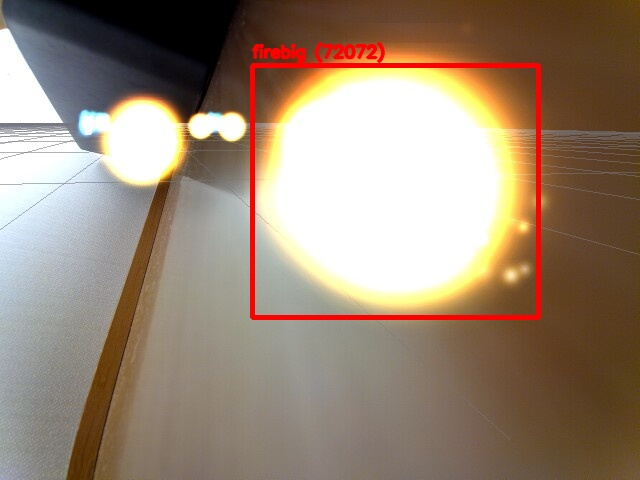firebig: (252, 65, 538, 317)
